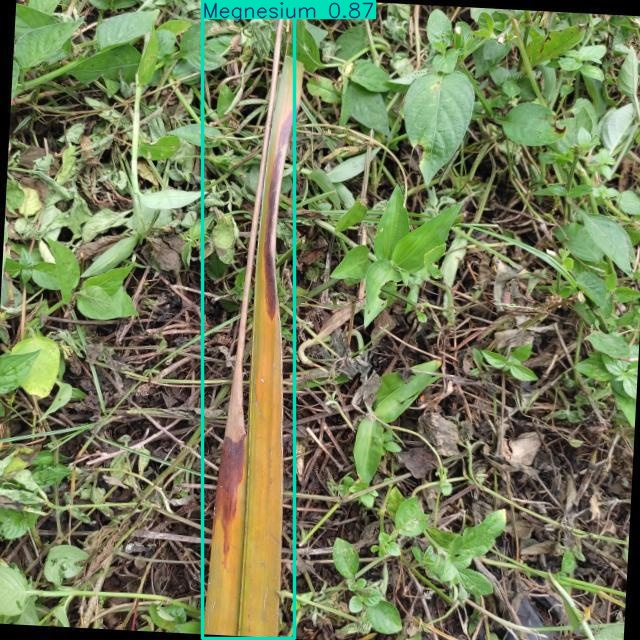Megnesium: (202, 0, 294, 639)
